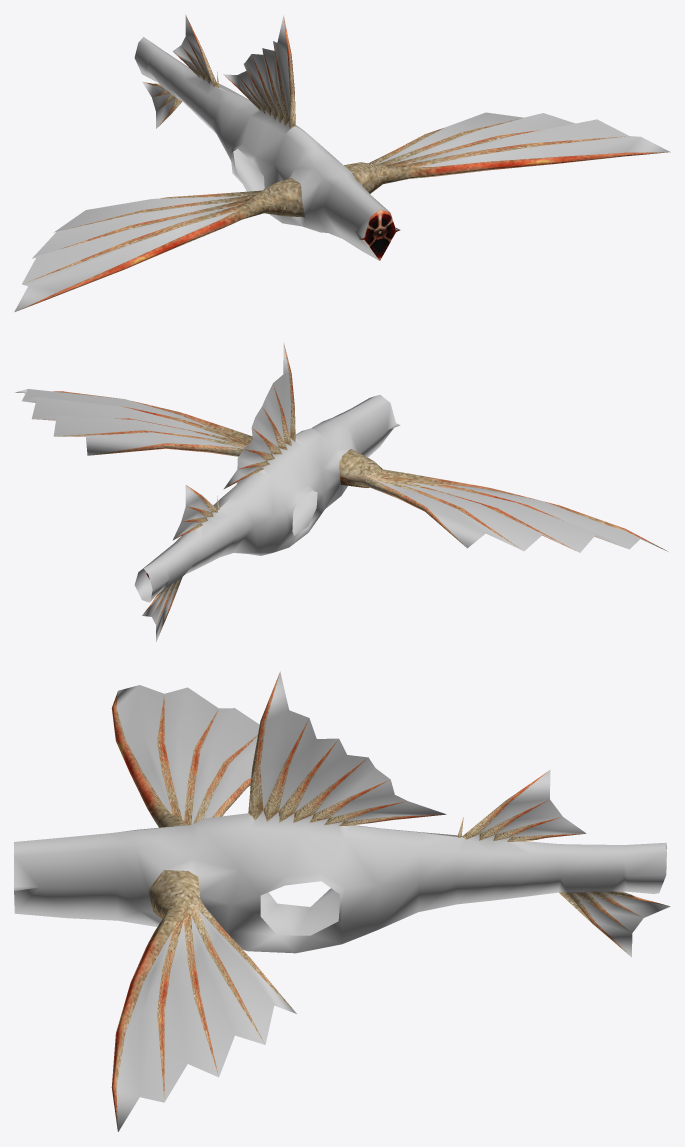
The picture shows the model from 3 angles, top to bottom: view 1: azimuth 30°, elevation 25°; view 2: azimuth 150°, elevation 25°; view 3: azimuth 270°, elevation 25°; orthographic projection. The views are drawn at different scales.
Visible parts, largest first — view 1: mesh00; view 2: mesh00; view 3: mesh00.
Boxes of the visible parts, box(x1,y1,x2,y2) form: mesh00: box(14, 15, 670, 312); mesh00: box(15, 342, 667, 641); mesh00: box(14, 671, 670, 1131).
Bounding box in the file's own units: 1446 × 437 × 908.
